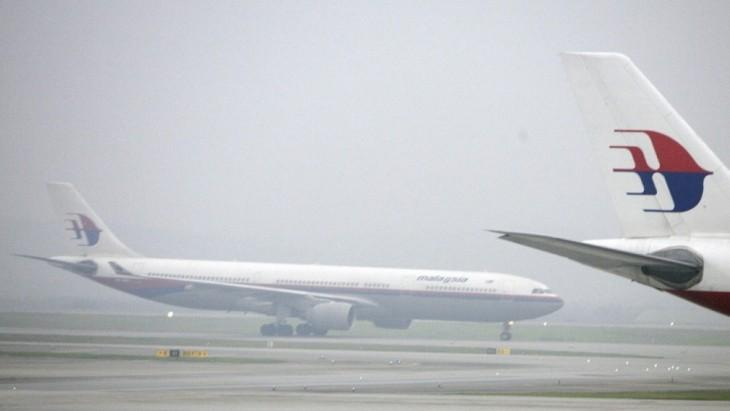airplane: (11, 181, 566, 347)
